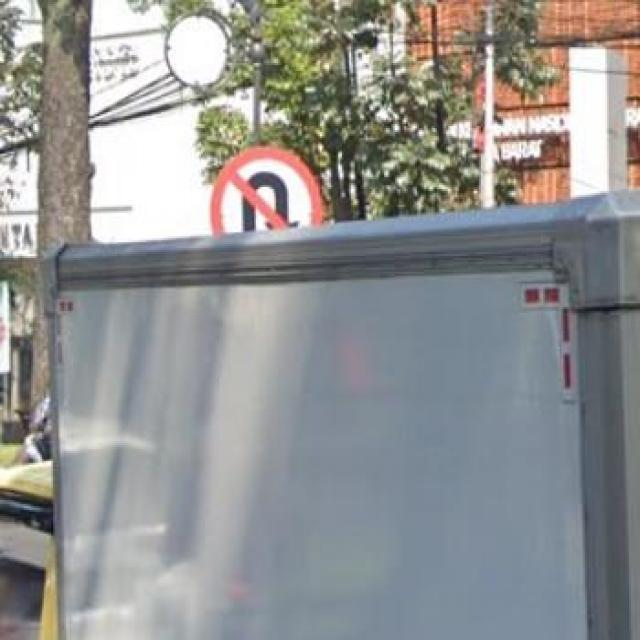traffic sign: (210, 146, 324, 226)
